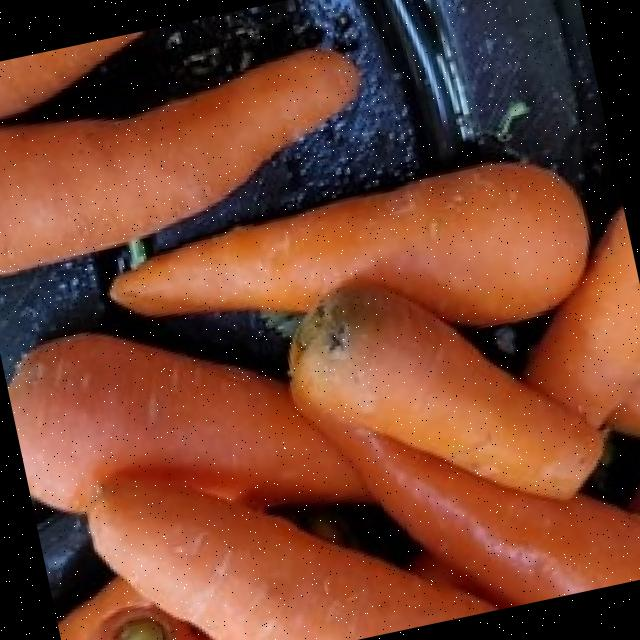carrot: (6, 162, 640, 640), (0, 48, 352, 268), (106, 161, 582, 319), (111, 163, 587, 320), (289, 284, 599, 496), (322, 426, 640, 608), (525, 208, 640, 431)
